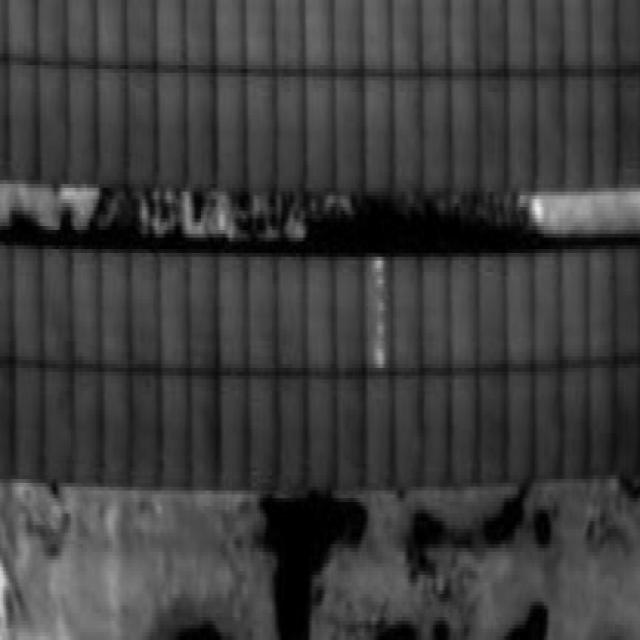Line Fault: (367, 246, 392, 371)
Panel: (0, 242, 635, 487), (0, 0, 640, 197)
